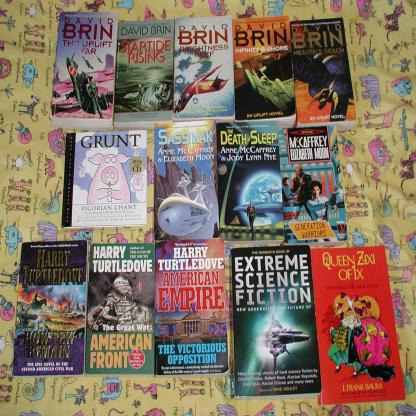book: (309, 245, 408, 405), (230, 242, 324, 400), (152, 239, 228, 379), (12, 240, 87, 378), (85, 240, 153, 379), (150, 120, 223, 243), (216, 121, 286, 245), (278, 124, 348, 246), (62, 130, 147, 230), (50, 10, 118, 129), (288, 16, 358, 128), (233, 15, 296, 129), (172, 12, 235, 124), (113, 16, 174, 128)
